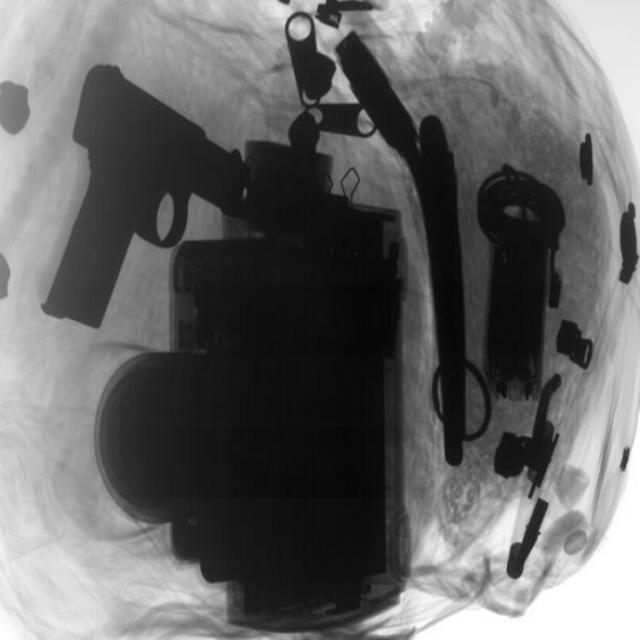GUN: (46, 67, 251, 332)
